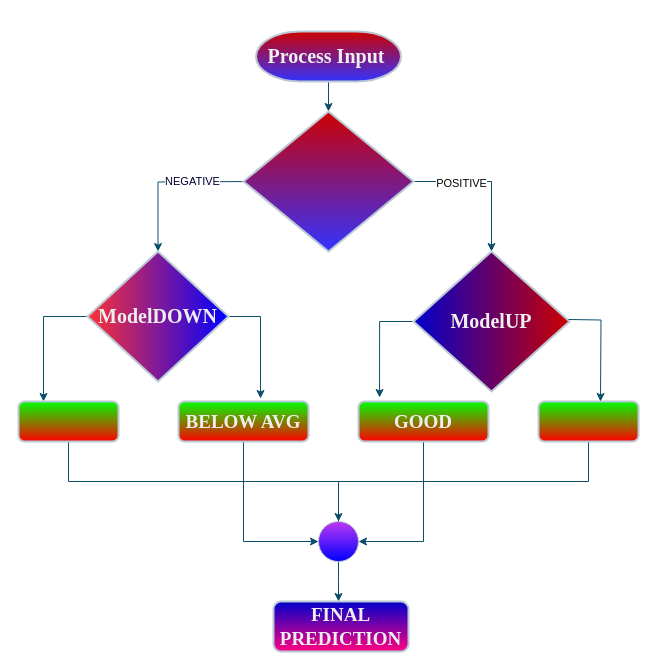
Image size: 656x669. Some labels were removed from this diagram. The centre of each missing label's shape, as x and y in pixels:
FLOP: the point at 68,421
HIT: the point at 588,421
ModelS: the point at 328,181
